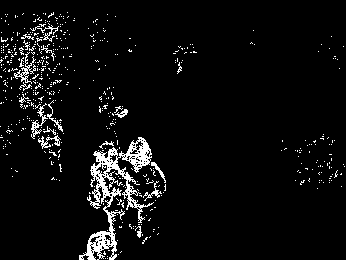person: (124, 137, 168, 246), (89, 140, 125, 238), (30, 105, 65, 174)
